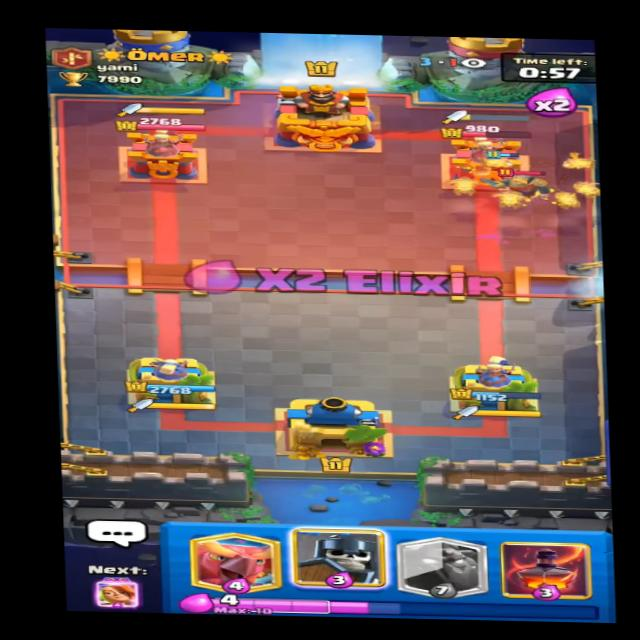knight: (495, 164, 551, 201)
